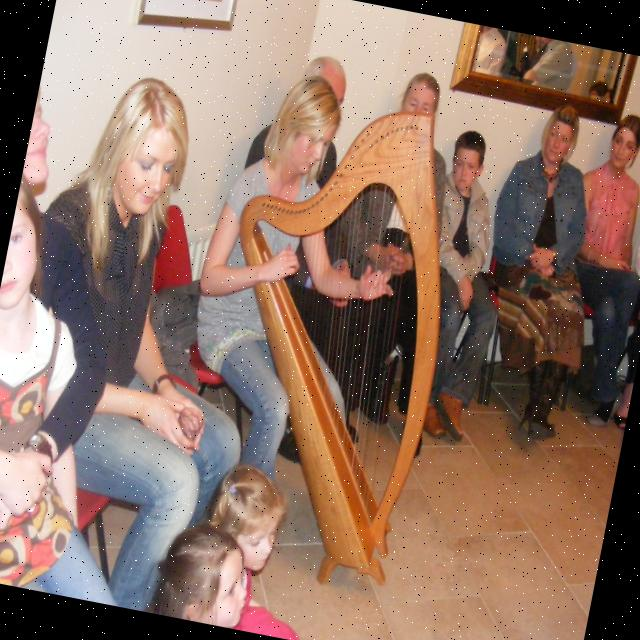harp: (172, 77, 487, 600)
